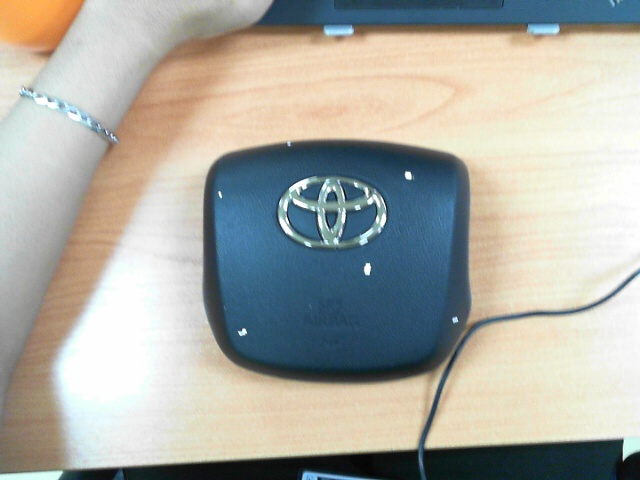Airbag: (403, 170, 414, 182), (363, 263, 372, 276), (237, 327, 248, 337), (452, 316, 459, 324), (218, 189, 223, 200), (287, 140, 291, 147)
